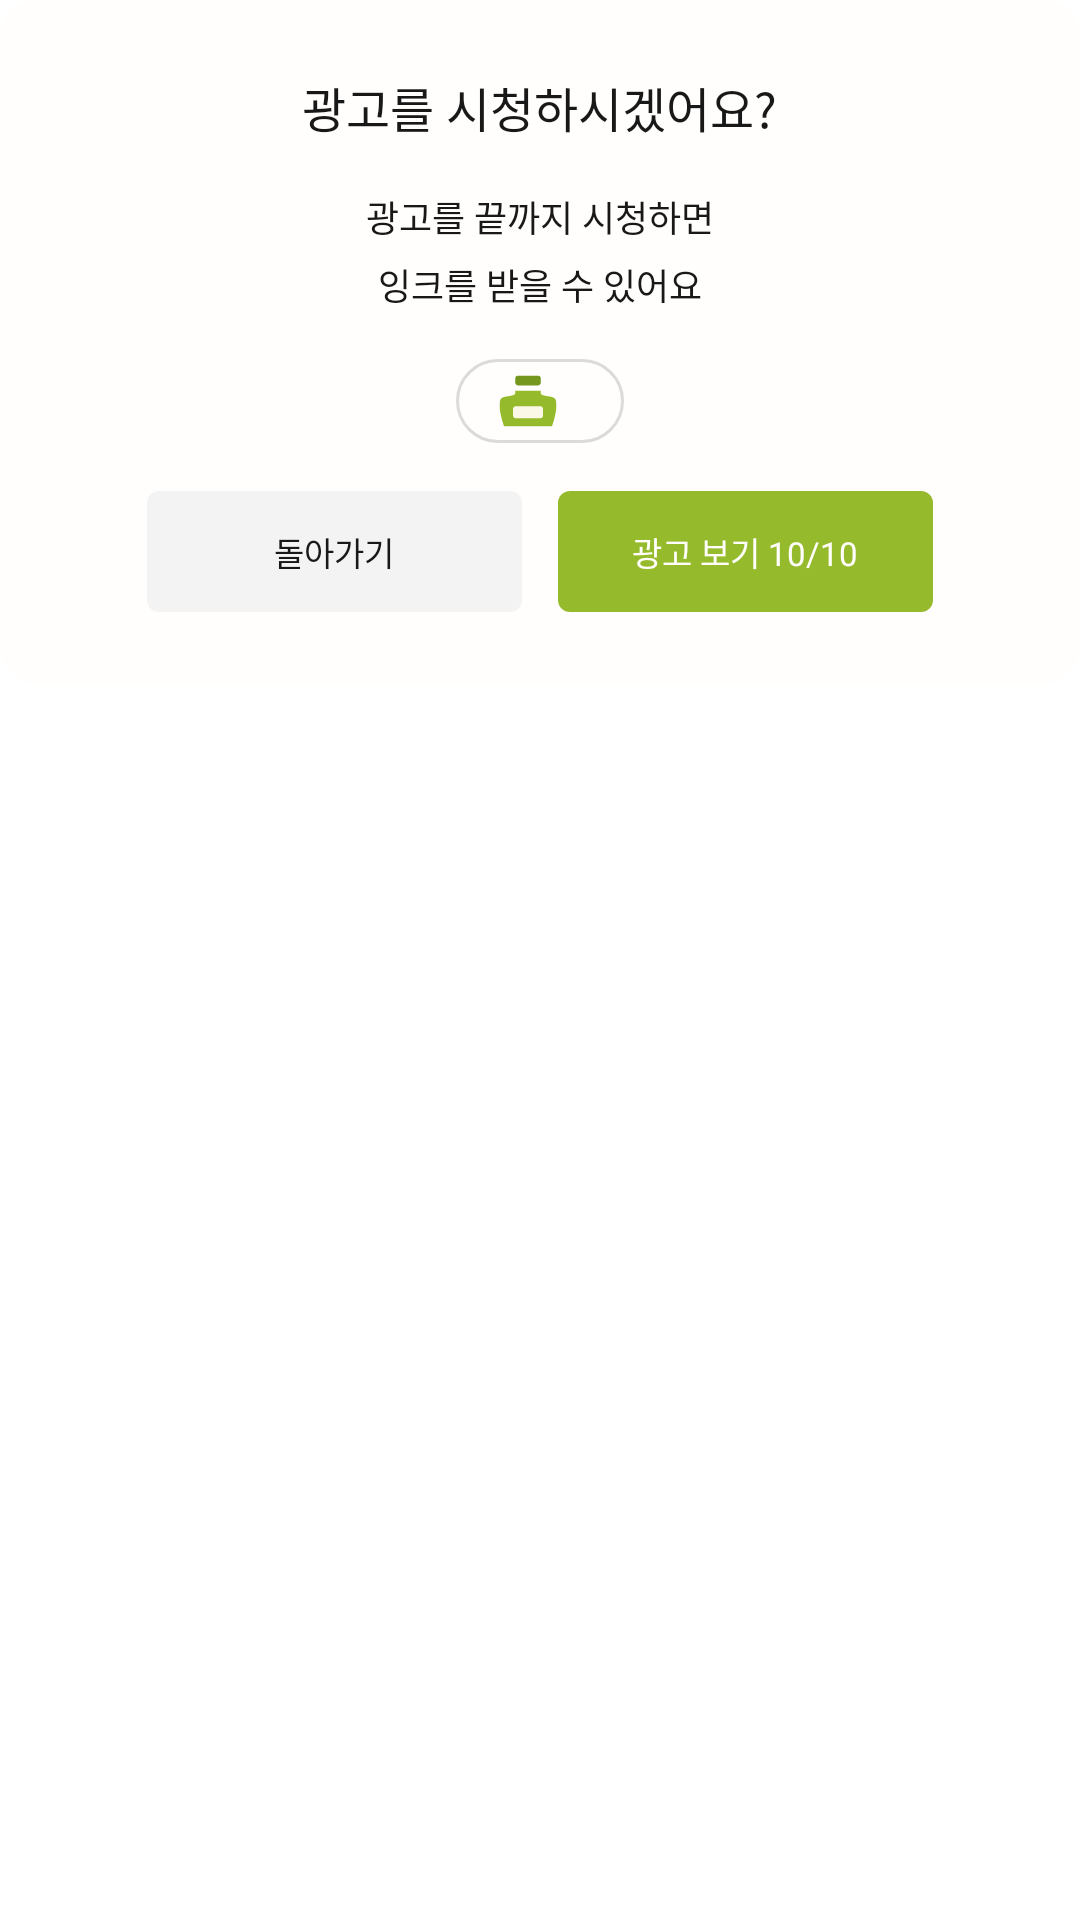

Locate icon controls on the screen. Image size 1080×1920, boxes as [x1=x1, y1=y1, x2=x2, y2=y2].
ink: [x1=499, y1=375, x2=557, y2=427]
